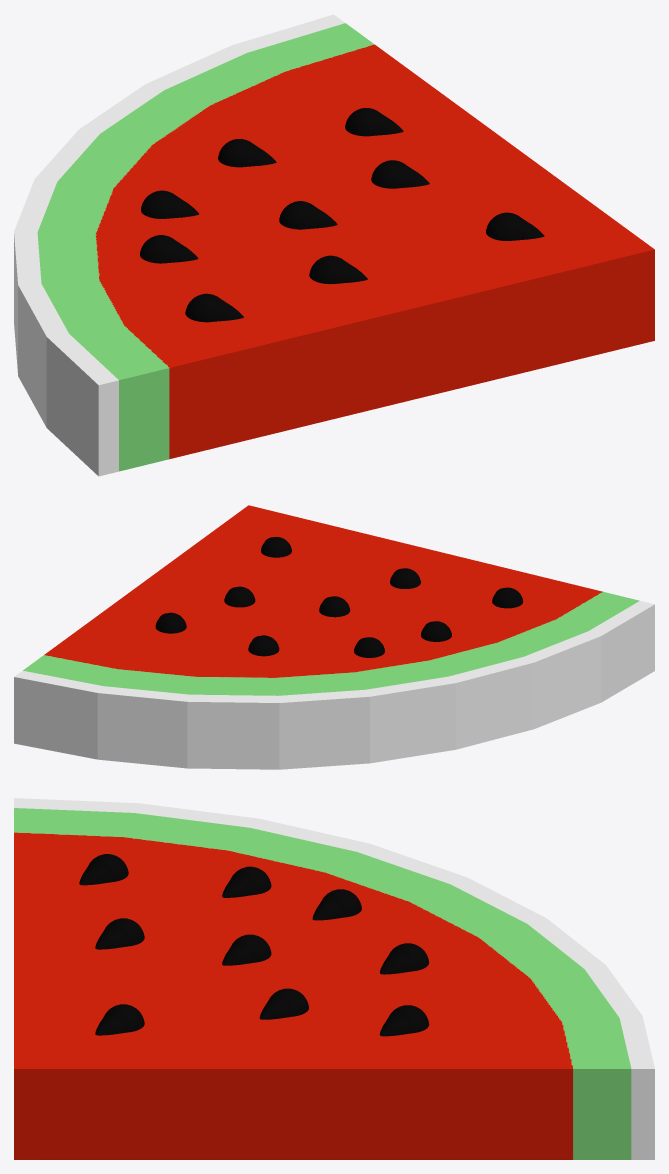
File: melon for sir (1).glb
The picture shows the model from 3 angles, top to bottom: view 1: azimuth 30°, elevation 25°; view 2: azimuth 150°, elevation 25°; view 3: azimuth 270°, elevation 25°; orthographic projection. The views are drawn at different scales.
Visible parts, largest first — view 1: Circle.001, Sphere.020, Sphere.024, Sphere.026, Sphere.022, Sphere.018, Sphere.019, Sphere.023, Sphere.025, Sphere.021; view 2: Circle.001, Sphere.023, Sphere.018, Sphere.021, Sphere.024, Sphere.020, Sphere.026, Sphere.022, Sphere.025, Sphere.019; view 3: Circle.001, Sphere.025, Sphere.026, Sphere.020, Sphere.022, Sphere.018, Sphere.019, Sphere.023, Sphere.021, Sphere.024.
Part boxes in pixels (box(x1,y1,x2,y2)): Circle.001: box(14, 14, 654, 476); Sphere.020: box(279, 201, 337, 229); Sphere.024: box(371, 160, 429, 188); Sphere.026: box(486, 212, 544, 240); Sphere.022: box(141, 190, 198, 218); Sphere.018: box(185, 293, 243, 322); Sphere.019: box(140, 235, 198, 263); Sphere.023: box(345, 108, 403, 136); Sphere.025: box(309, 255, 367, 284); Sphere.021: box(218, 139, 276, 167); Circle.001: box(14, 505, 654, 769); Sphere.023: box(155, 612, 186, 633); Sphere.018: box(492, 587, 523, 608); Sphere.021: box(248, 635, 279, 656); Sphere.024: box(224, 586, 255, 607); Sphere.020: box(319, 596, 350, 617); Sphere.026: box(261, 537, 291, 557); Sphere.022: box(354, 637, 384, 657); Sphere.025: box(390, 568, 420, 588); Sphere.019: box(421, 621, 451, 641); Circle.001: box(14, 798, 654, 1159); Sphere.025: box(95, 918, 144, 949); Sphere.026: box(95, 1004, 144, 1035); Sphere.020: box(222, 934, 271, 965); Sphere.022: box(312, 889, 361, 920); Sphere.018: box(79, 854, 128, 885); Sphere.019: box(222, 866, 271, 897); Sphere.023: box(379, 1005, 429, 1036); Sphere.021: box(380, 943, 429, 974); Sphere.024: box(259, 988, 308, 1019).
Bounding box in the file's own units: 1 × 0.2169 × 1.
Materials: 4 (1 with a texture image).
